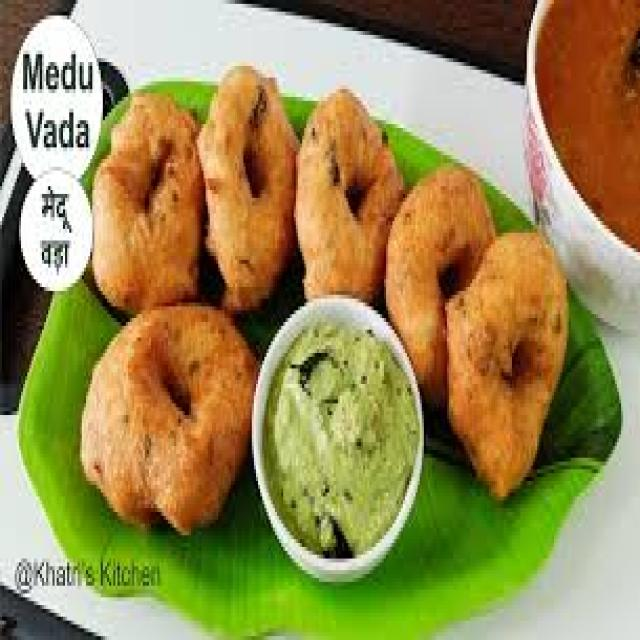MEDU VADA: (85, 305, 260, 525), (449, 234, 571, 506), (385, 167, 498, 398), (203, 62, 306, 306), (91, 92, 200, 308), (293, 81, 402, 295)
